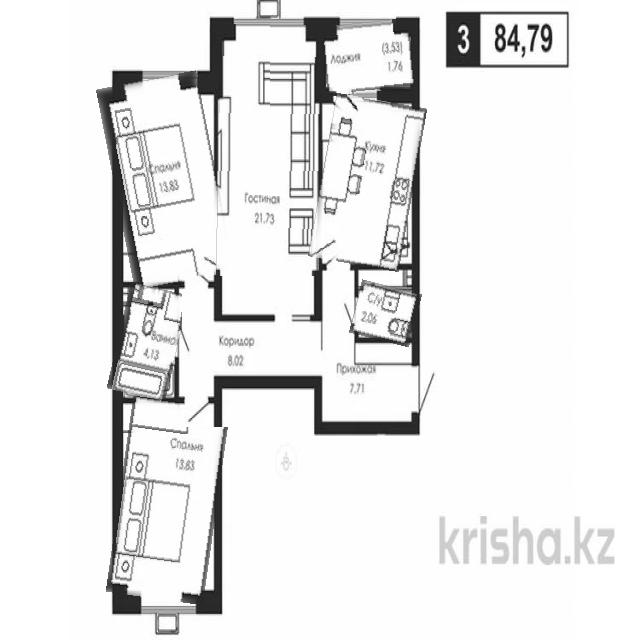balcony: (323, 20, 414, 94)
bathroom: (112, 284, 184, 398)
hallway: (182, 277, 420, 427)
kitchen: (315, 97, 421, 269), (352, 283, 420, 344)
living_room: (216, 25, 321, 317), (105, 74, 226, 287), (113, 399, 224, 603)
